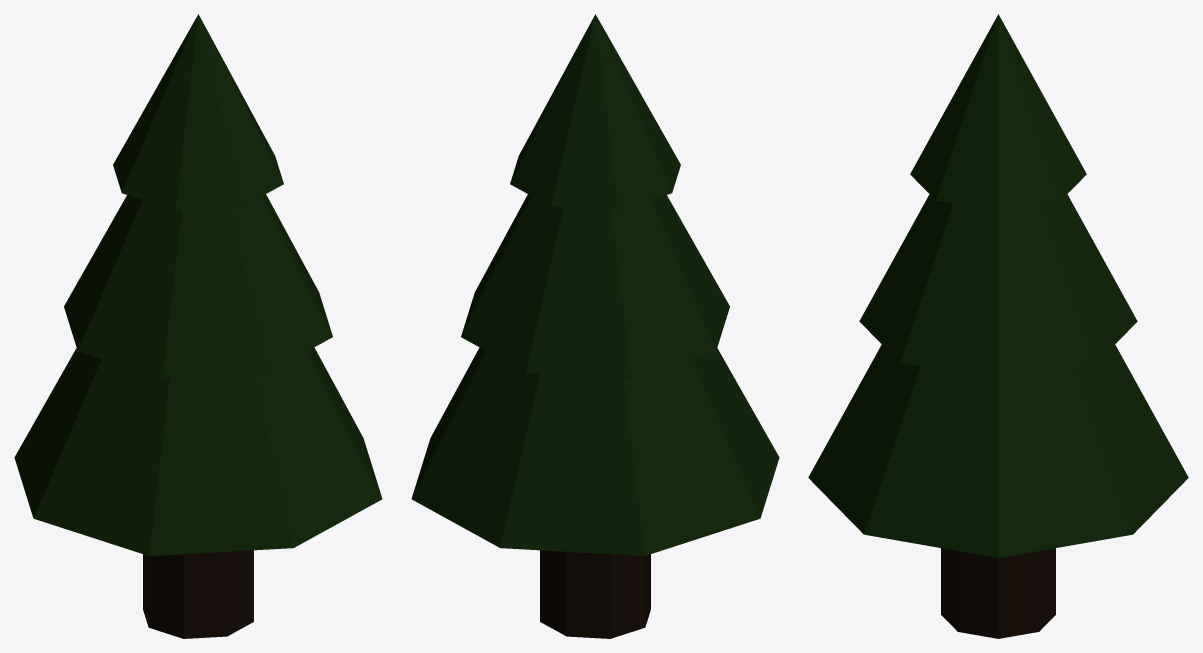
Rendered from CartoonTree.obj.
The picture shows the model from 3 angles, left to right: view 1: azimuth 30°, elevation 25°; view 2: azimuth 150°, elevation 25°; view 3: azimuth 270°, elevation 25°; orthographic projection.
Parts seen in each view (by area): view 1: Cone, Cone.001, Cone.002, Cylinder; view 2: Cone, Cone.001, Cone.002, Cylinder; view 3: Cone, Cone.001, Cone.002, Cylinder.
Part boxes in pixels (x1,y1,x2,y2): Cone: (14, 347, 382, 556); Cone.001: (64, 194, 332, 378); Cone.002: (113, 14, 283, 210); Cylinder: (143, 550, 253, 638); Cone: (411, 347, 779, 556); Cone.001: (461, 194, 729, 378); Cone.002: (510, 14, 680, 210); Cylinder: (540, 550, 650, 638); Cone: (808, 344, 1188, 557); Cone.001: (859, 194, 1137, 380); Cone.002: (910, 14, 1086, 211); Cylinder: (941, 548, 1055, 638).
Size of the model in its own units: 4.17 by 7.27 by 4.17.
